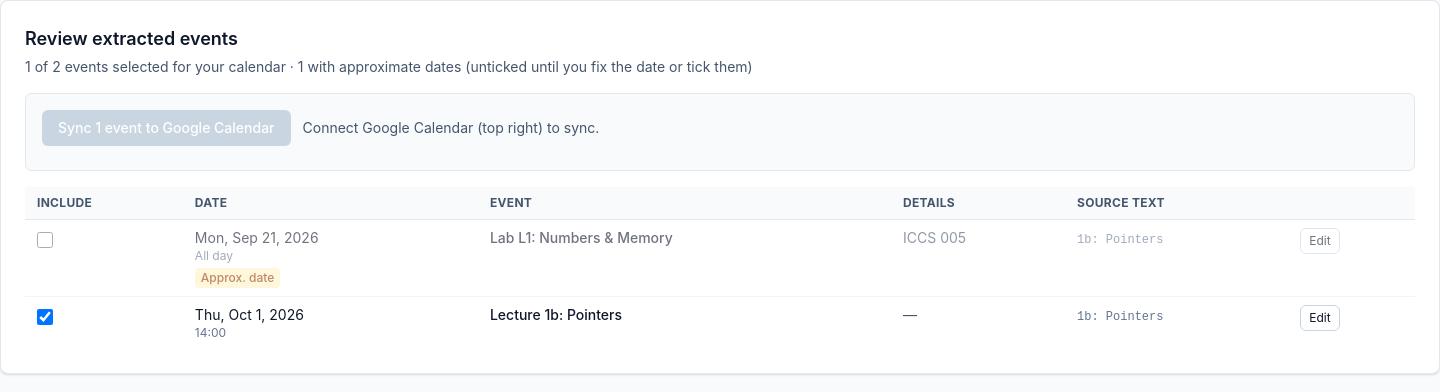
EventReviewTable › counts how many events are selected, and updates as soon as one is ticked
Expected: the text "1 of 2 events selected" is shown, [25,58,753,75]
Click the checkbox named "Include Lab L1: Numbers & Memory" at (45, 240), box [37,232,53,248]
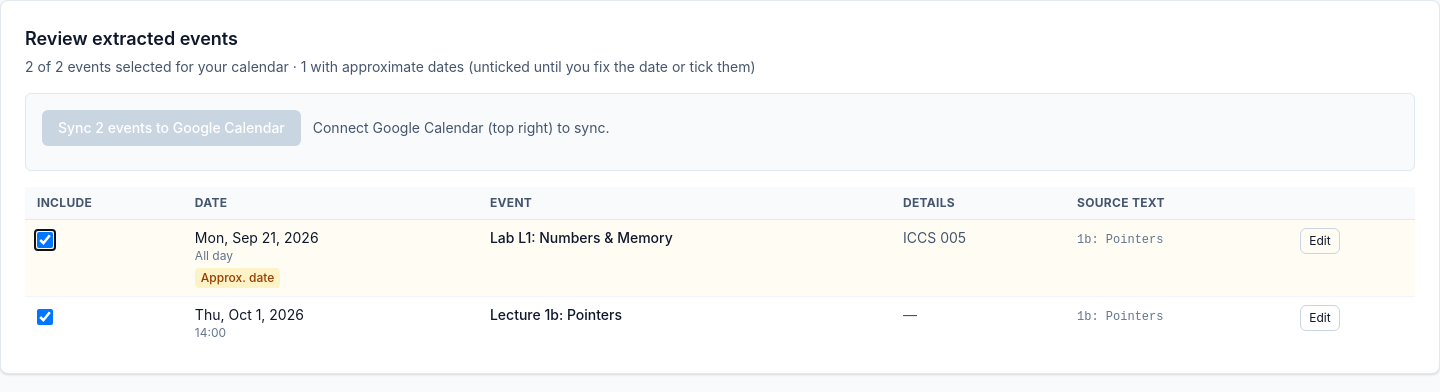
Expected: the text "2 of 2 events selected" is shown, [25,58,756,75]
